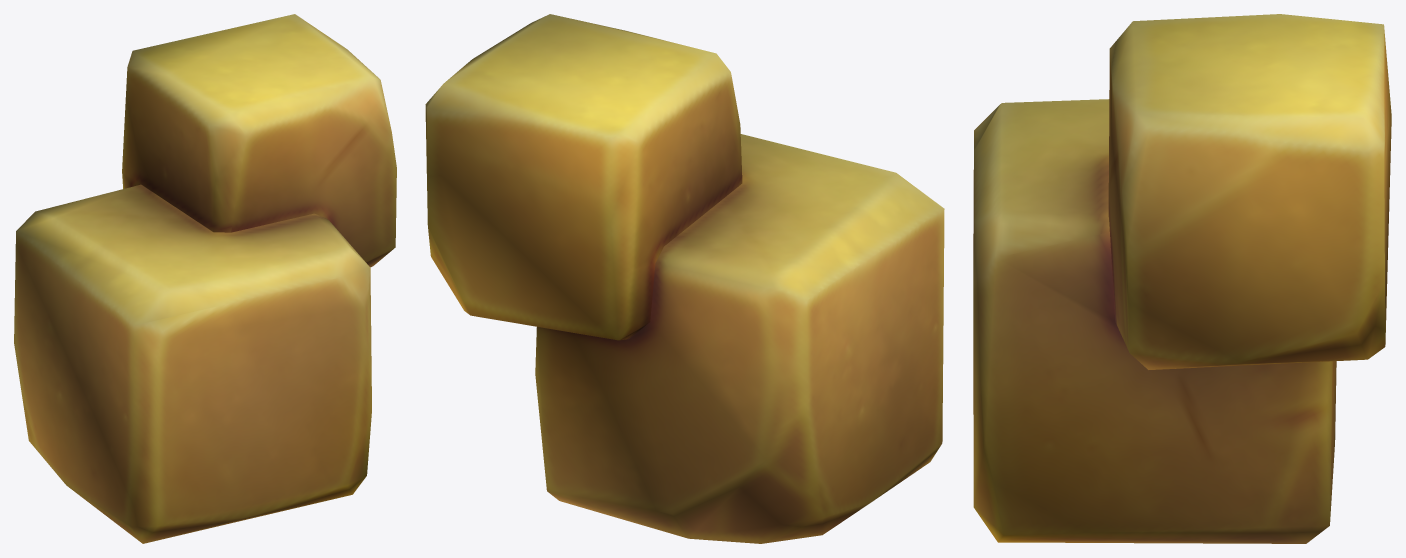
Rendered from SM_Gem_Gold_004.fbx.
3 renders of one model, left to right at view 1: azimuth 30°, elevation 25°; view 2: azimuth 150°, elevation 25°; view 3: azimuth 270°, elevation 25°, orthographic. The views are drawn at different scales.
Parts seen in each view (by area): view 1: SM_Gem_Gold_004; view 2: SM_Gem_Gold_004; view 3: SM_Gem_Gold_004.
Part boxes in pixels (<box>): SM_Gem_Gold_004: <box>14,14,396,543</box>; SM_Gem_Gold_004: <box>425,14,944,543</box>; SM_Gem_Gold_004: <box>973,14,1391,543</box>.
Bounding box in the file's own units: 20.01 × 21.97 × 17.4.
